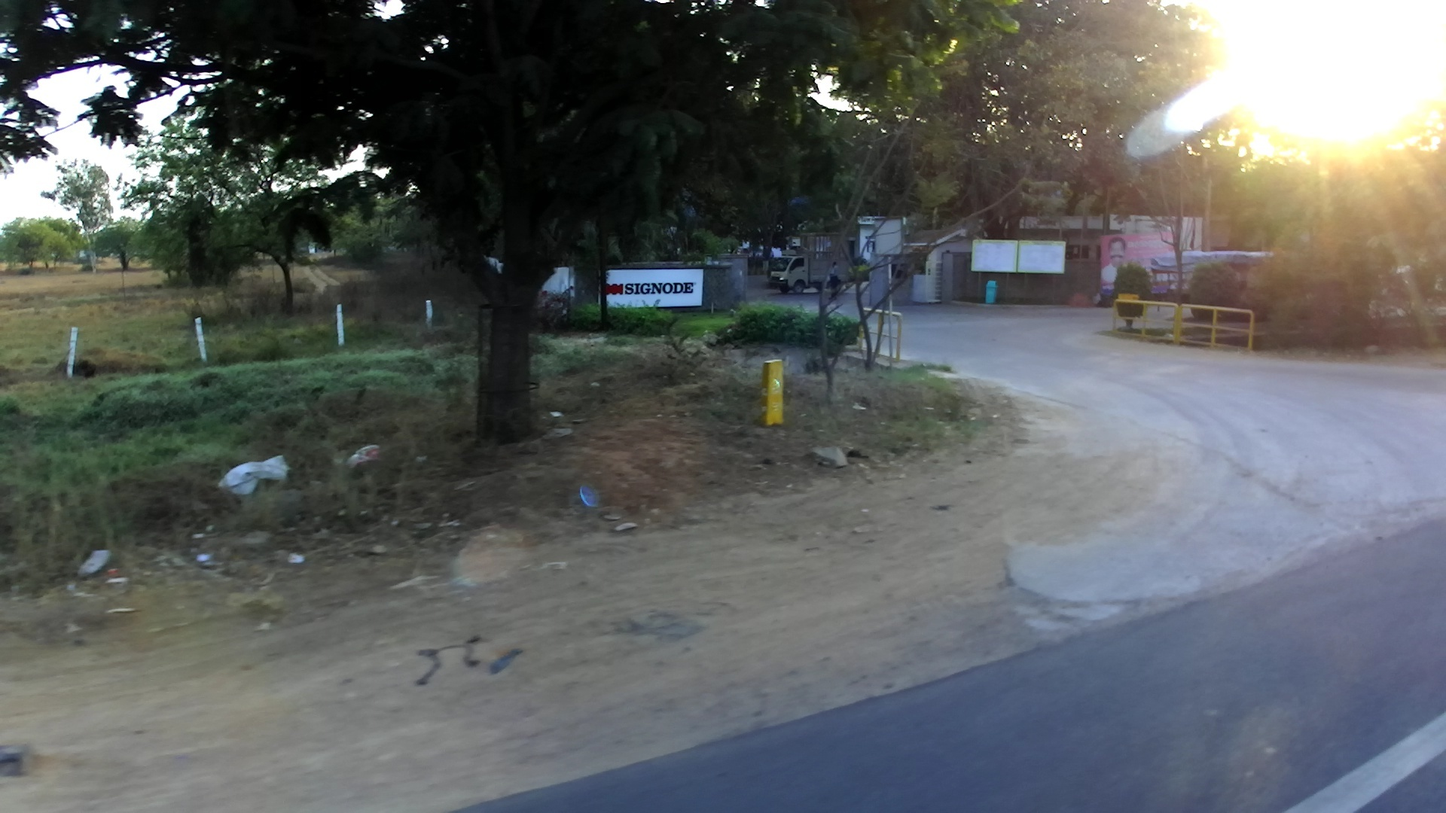person: (826, 262, 843, 300)
truck: (764, 230, 855, 298)
